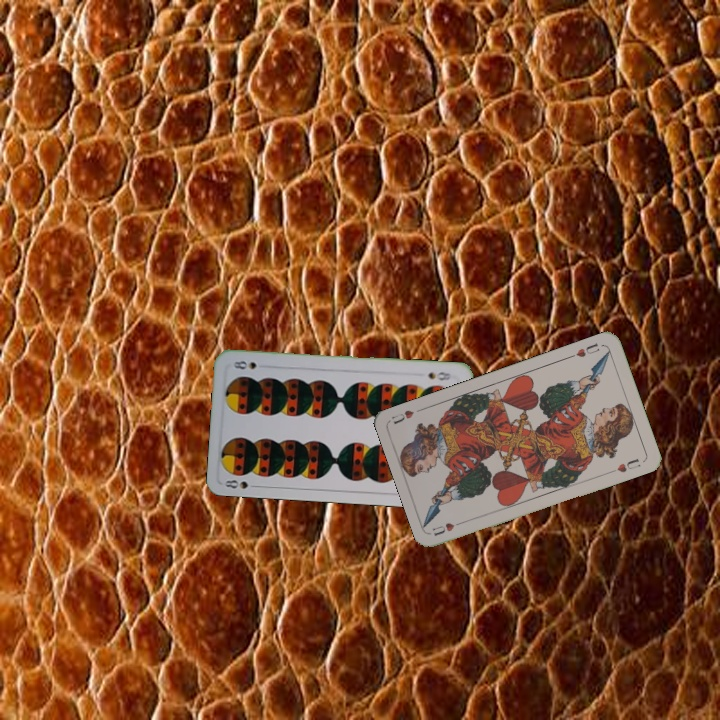HU: (428, 517, 467, 538), (566, 339, 602, 361)
S8: (221, 476, 261, 491), (424, 368, 453, 383)
